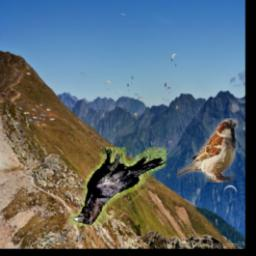Crow: (70, 147, 166, 226)
Sparrow: (176, 118, 237, 182)
